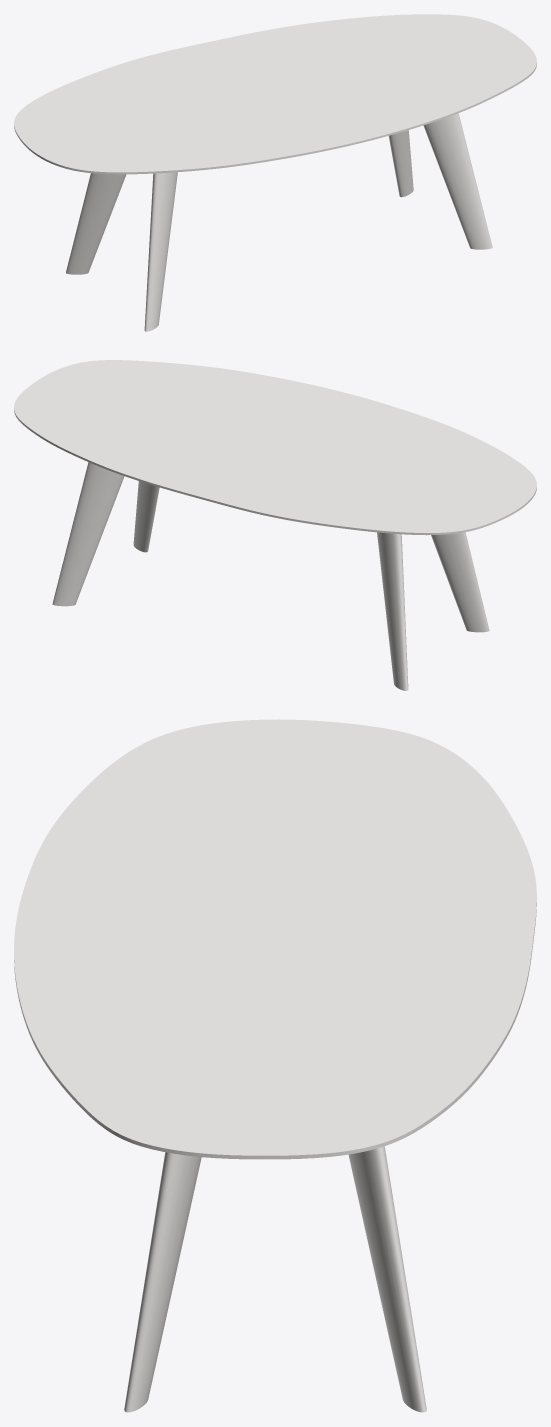
The model's file is purewhite_danish_facet_ferdinantwalnut.glb.
3 views of the same model, one above another, from view 1: azimuth 30°, elevation 25°; view 2: azimuth 150°, elevation 25°; view 3: azimuth 270°, elevation 25° (orthographic). The views are drawn at different scales.
Parts seen in each view (by area): view 1: facet_danish, ferdinandwalnut; view 2: facet_danish, ferdinandwalnut; view 3: facet_danish, ferdinandwalnut.
Boxes of the visible parts, <box> form: facet_danish: <box>14,14,536,174</box>; ferdinandwalnut: <box>66,113,492,331</box>; facet_danish: <box>14,360,536,535</box>; ferdinandwalnut: <box>52,462,489,690</box>; facet_danish: <box>14,719,536,1159</box>; ferdinandwalnut: <box>124,1146,426,1412</box>.
Bounding box in the file's own units: 7.5 × 2.51 × 3.8.
Materials: 1 (1 with a texture image).
